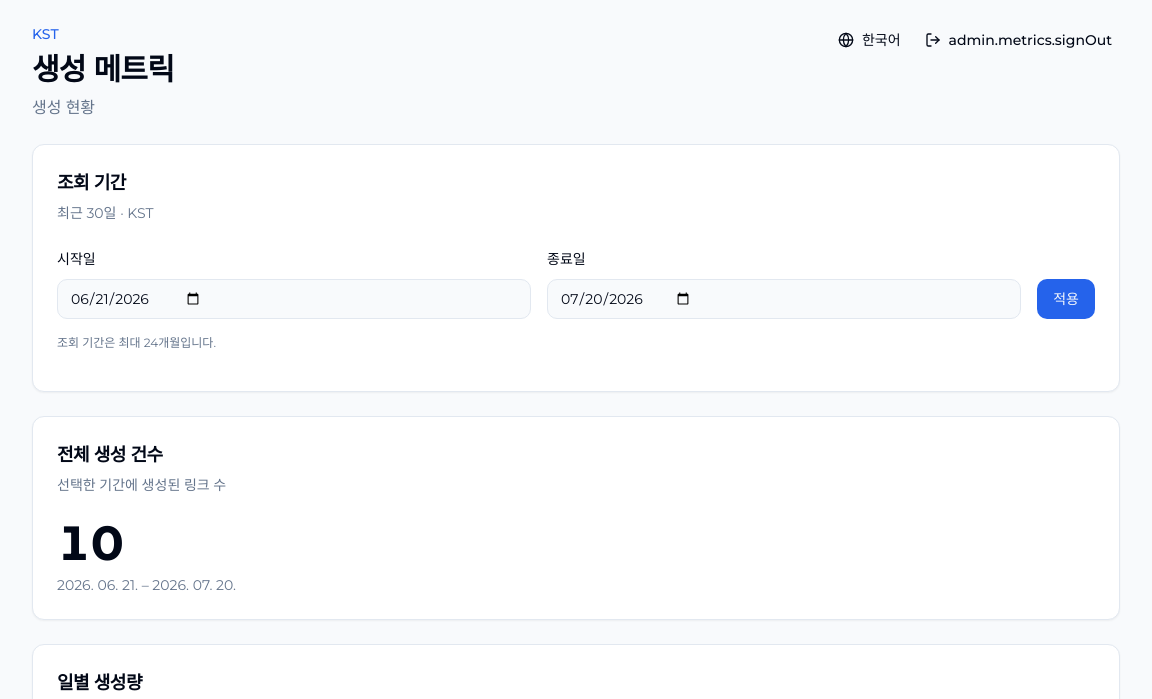
Test case: Admin metrics dashboard › Given an API error When retrying Then it repeats the last request and recovers
What coordinates should you click on to do the following:
click the button "적용"
I would click on:
 (1066, 299)
Its box is [1037,279,1095,319].
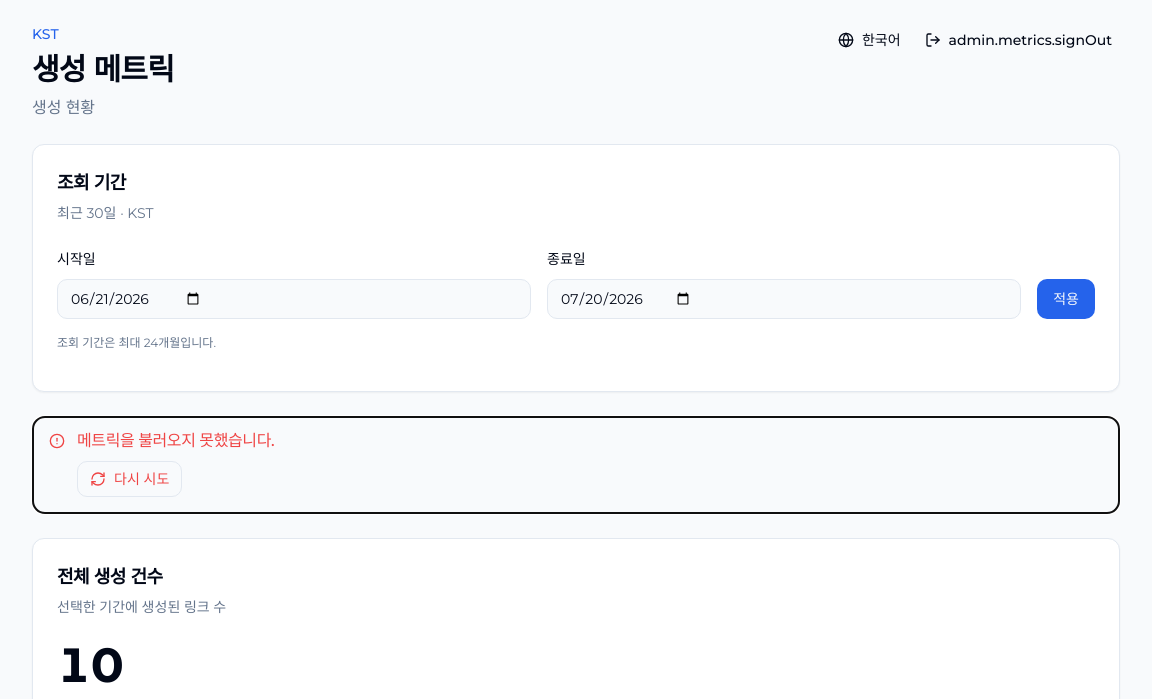
Result: the heading "메트릭을 불러오지 못했습니다." is shown at [77,431,274,450]
What coordinates should you click on to do the following:
click the button "다시 시도"
I would click on:
 (130, 479)
Its box is [77,461,182,497].
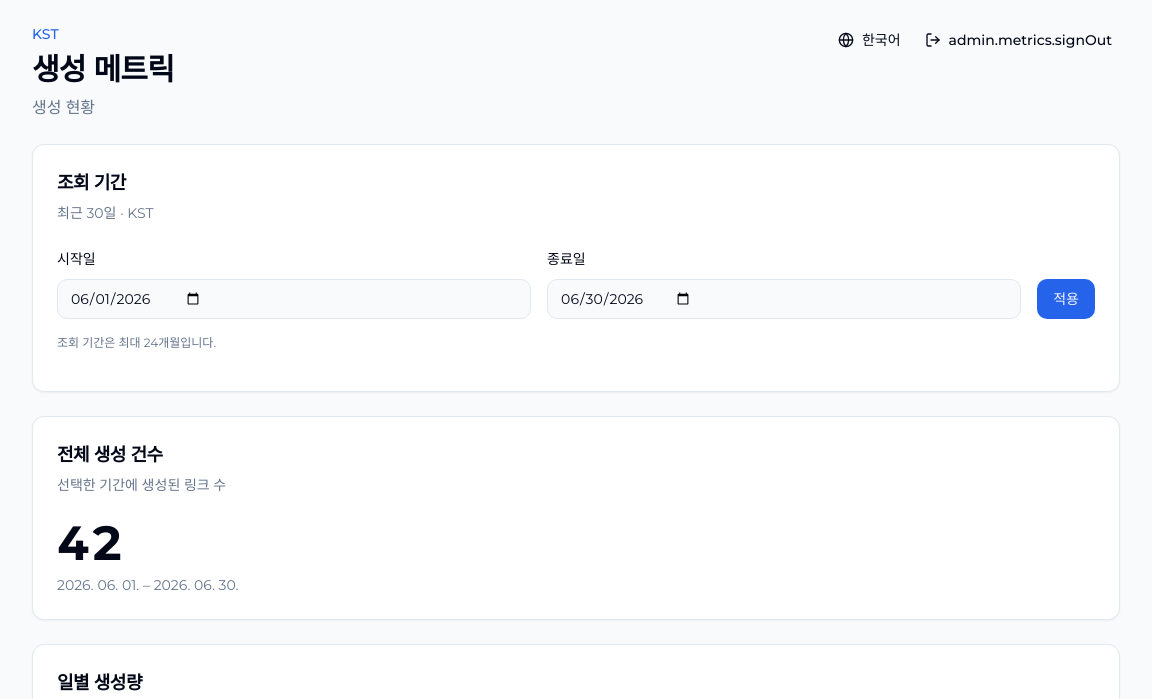
Result: the text "42" is shown at [57,514,124,572]
